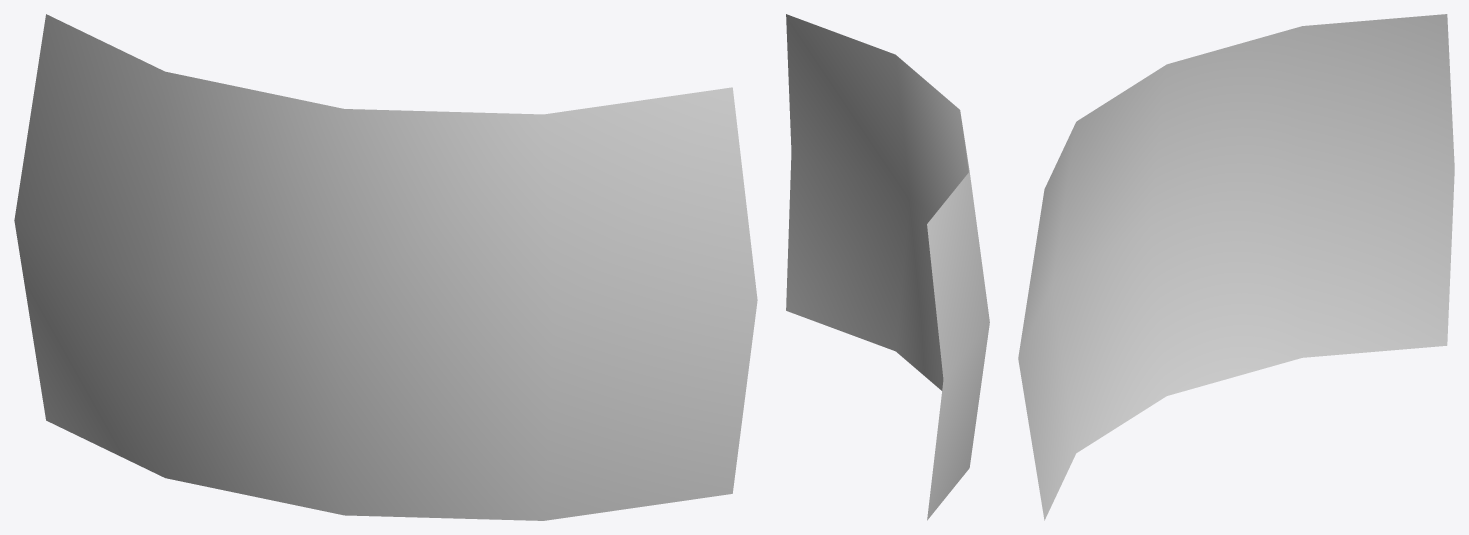
File: yun_3.FBX
The picture shows the model from 3 angles, left to right: view 1: azimuth 30°, elevation 25°; view 2: azimuth 150°, elevation 25°; view 3: azimuth 270°, elevation 25°; orthographic projection. The views are drawn at different scales.
Parts seen in each view (by area): view 1: yun_3; view 2: yun_3; view 3: yun_3.
Part boxes in pixels (x1,y1,x2,y2): yun_3: (14, 14, 757, 520); yun_3: (786, 14, 989, 520); yun_3: (1018, 14, 1454, 520).
Bounding box in the file's own units: 10999 × 8982 × 10711.
